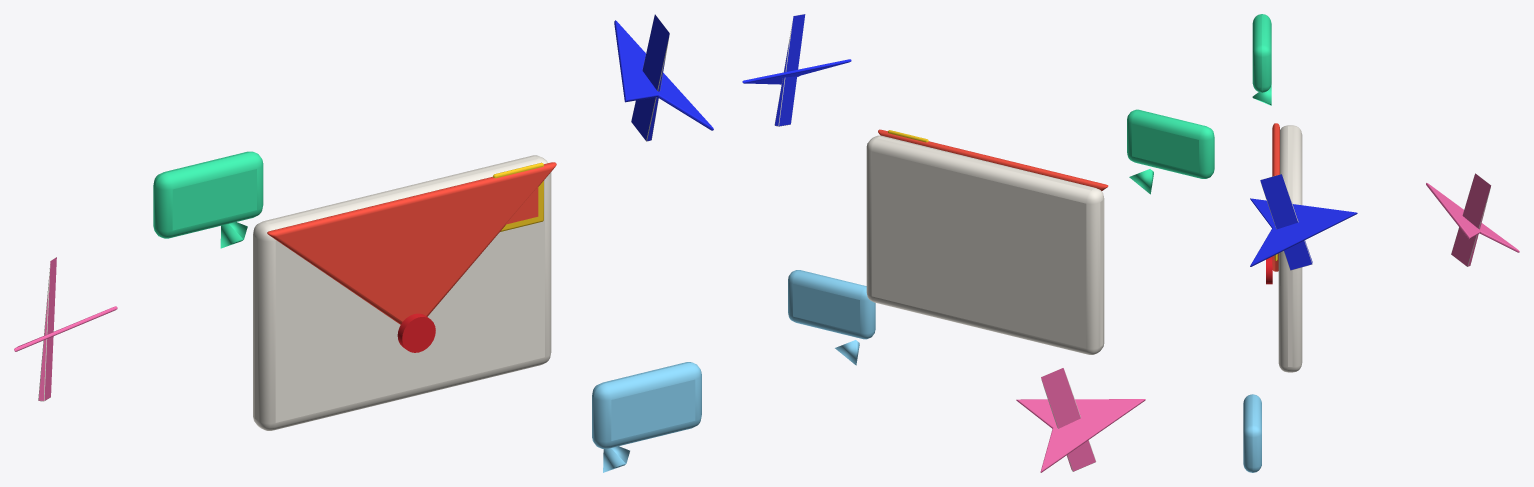
File: mail.glb
The picture shows the model from 3 angles, left to right: view 1: azimuth 30°, elevation 25°; view 2: azimuth 150°, elevation 25°; view 3: azimuth 270°, elevation 25°; orthographic projection. The views are drawn at different scales.
Parts seen in each view (by area): view 1: envelope, flap, bob_bubble0, bob_bubble1, orbit_plane0, orbit_plane1, stamp; view 2: envelope, orbit_plane1, bob_bubble0, bob_bubble1, orbit_plane0, flap; view 3: orbit_plane0, envelope, orbit_plane1, bob_bubble0, bob_bubble1, flap.
Boxes of the visible parts, x1=… form: envelope: x1=253, y1=155, x2=551, y2=430; flap: x1=267, y1=162, x2=556, y2=352; bob_bubble0: x1=153, y1=151, x2=263, y2=248; bob_bubble1: x1=592, y1=362, x2=701, y2=472; orbit_plane0: x1=614, y1=14, x2=713, y2=141; orbit_plane1: x1=14, y1=257, x2=117, y2=401; stamp: x1=493, y1=162, x2=543, y2=231; envelope: x1=866, y1=135, x2=1104, y2=354; orbit_plane1: x1=1016, y1=368, x2=1145, y2=472; bob_bubble0: x1=1127, y1=109, x2=1214, y2=194; bob_bubble1: x1=788, y1=270, x2=875, y2=365; orbit_plane0: x1=742, y1=14, x2=851, y2=126; flap: x1=878, y1=129, x2=1108, y2=190; orbit_plane0: x1=1250, y1=174, x2=1357, y2=270; envelope: x1=1278, y1=125, x2=1302, y2=372; orbit_plane1: x1=1426, y1=173, x2=1519, y2=266; bob_bubble0: x1=1252, y1=14, x2=1271, y2=105; bob_bubble1: x1=1243, y1=394, x2=1261, y2=472; flap: x1=1266, y1=123, x2=1279, y2=284.
Size of the model in its own units: 10.31 by 7.38 by 5.86.
